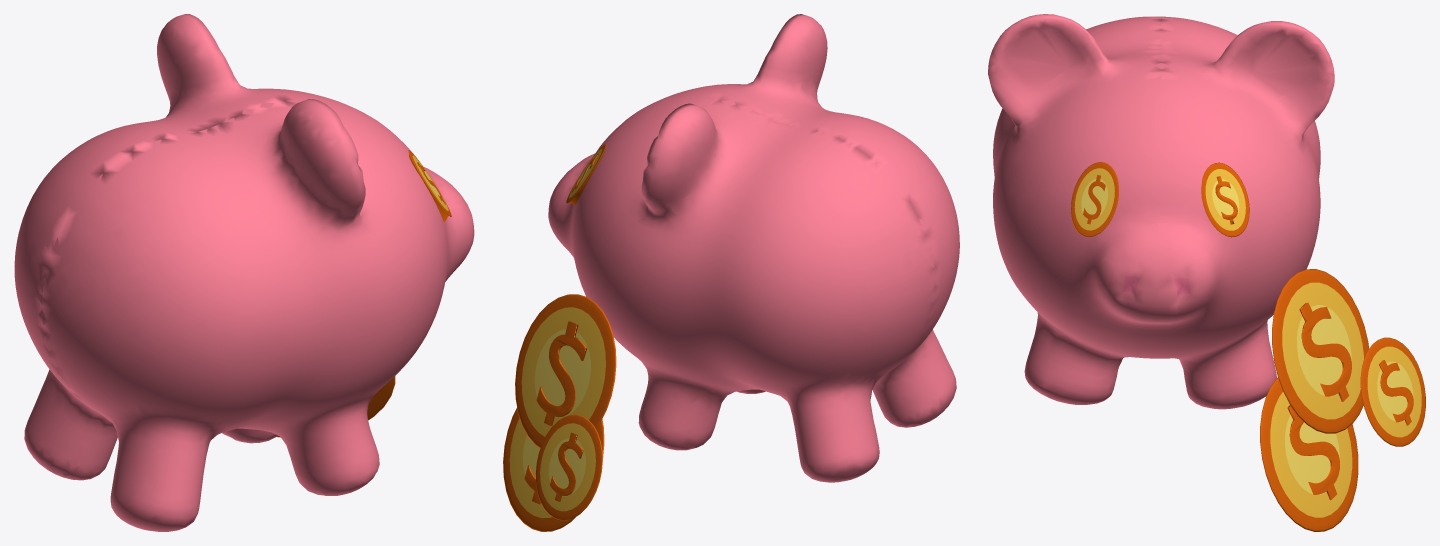
Rendered from Pigy.fbx.
3 renders of one model, left to right at view 1: azimuth 30°, elevation 25°; view 2: azimuth 150°, elevation 25°; view 3: azimuth 270°, elevation 25°, orthographic. The views are drawn at different scales.
Parts seen in each view (by area): view 1: Pig, Money; view 2: Pig, Money; view 3: Pig, Money.
Part boxes in pixels (bbox=[...]): Pig: bbox=[14, 14, 474, 531]; Money: bbox=[277, 376, 395, 437]; Pig: bbox=[548, 14, 959, 482]; Money: bbox=[503, 294, 616, 531]; Pig: bbox=[988, 14, 1334, 409]; Money: bbox=[1260, 269, 1425, 531].
Bounding box in the file's own units: 428 × 475 × 422.
